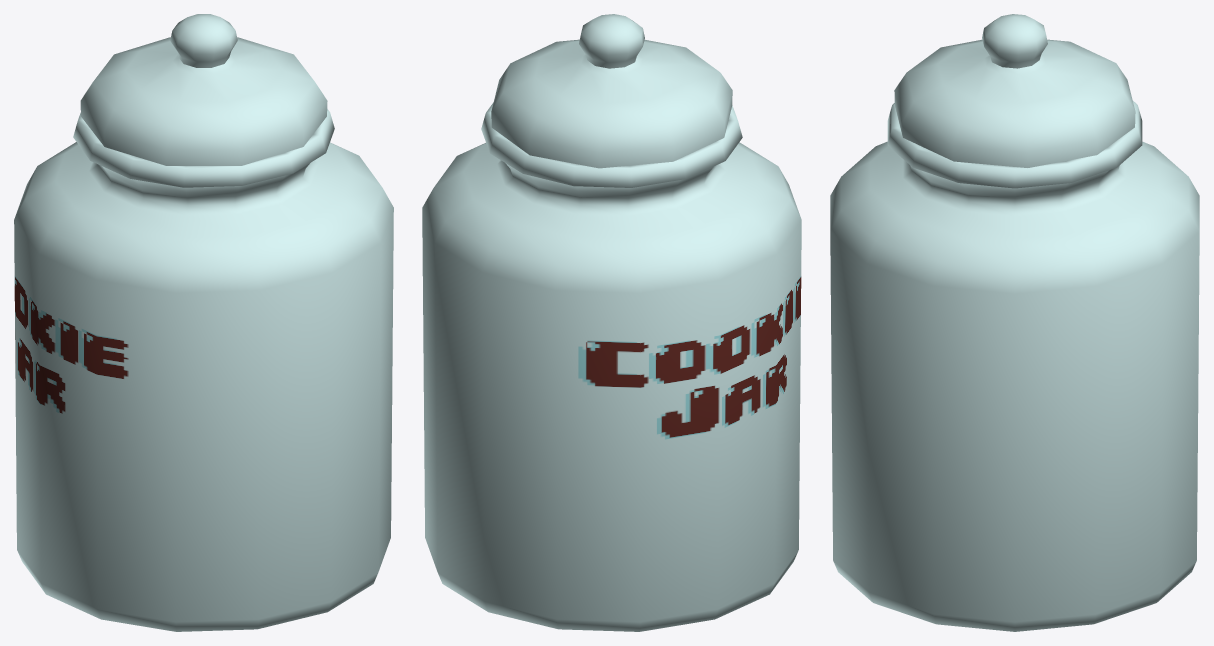
Rendered from CookieJar.FBX.
The picture shows the model from 3 angles, left to right: view 1: azimuth 30°, elevation 25°; view 2: azimuth 150°, elevation 25°; view 3: azimuth 270°, elevation 25°; orthographic projection.
Parts seen in each view (by area): view 1: Cookie Jar; view 2: Cookie Jar; view 3: Cookie Jar.
Boxes of the visible parts, x1=… form: Cookie Jar: x1=14, y1=14, x2=393, y2=631; Cookie Jar: x1=422, y1=14, x2=801, y2=631; Cookie Jar: x1=830, y1=14, x2=1199, y2=631.
Size of the model in its own units: 0.2904 by 0.4594 by 0.2822.
Materials: 1 (1 with a texture image).
